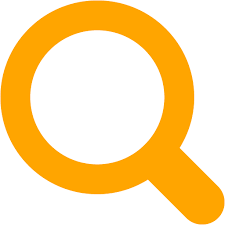searchIcon: (1, 1, 224, 223)
